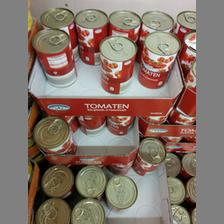Tomatensauce: (31, 27, 78, 89), (97, 33, 136, 95), (138, 32, 178, 88), (73, 8, 107, 64), (31, 116, 75, 152), (130, 137, 164, 177)
